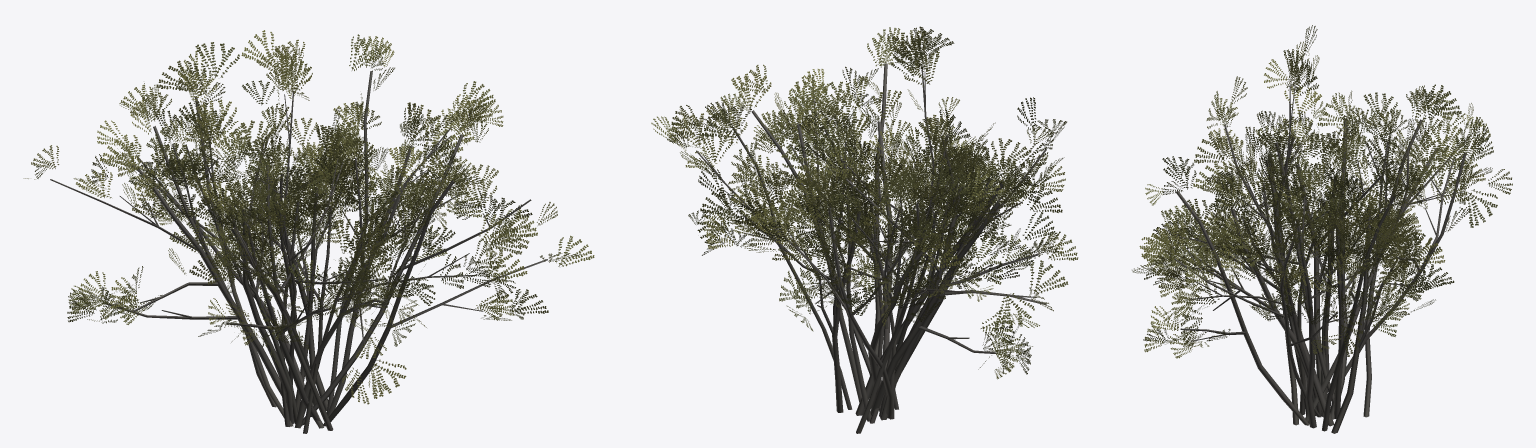
The model's file is creosote_b.glb.
The picture shows the model from 3 angles, left to right: view 1: azimuth 30°, elevation 25°; view 2: azimuth 150°, elevation 25°; view 3: azimuth 270°, elevation 25°; orthographic projection. The views are drawn at different scales.
Parts seen in each view (by area): view 1: creosote_b; view 2: creosote_b; view 3: creosote_b.
Part boxes in pixels (<box>): creosote_b: <box>23,30,594,433</box>; creosote_b: <box>651,26,1078,433</box>; creosote_b: <box>1132,25,1512,433</box>.
Size of the model in its own units: 1.5 by 1.42 by 1.35.
Materials: 2 (1 with a texture image).
